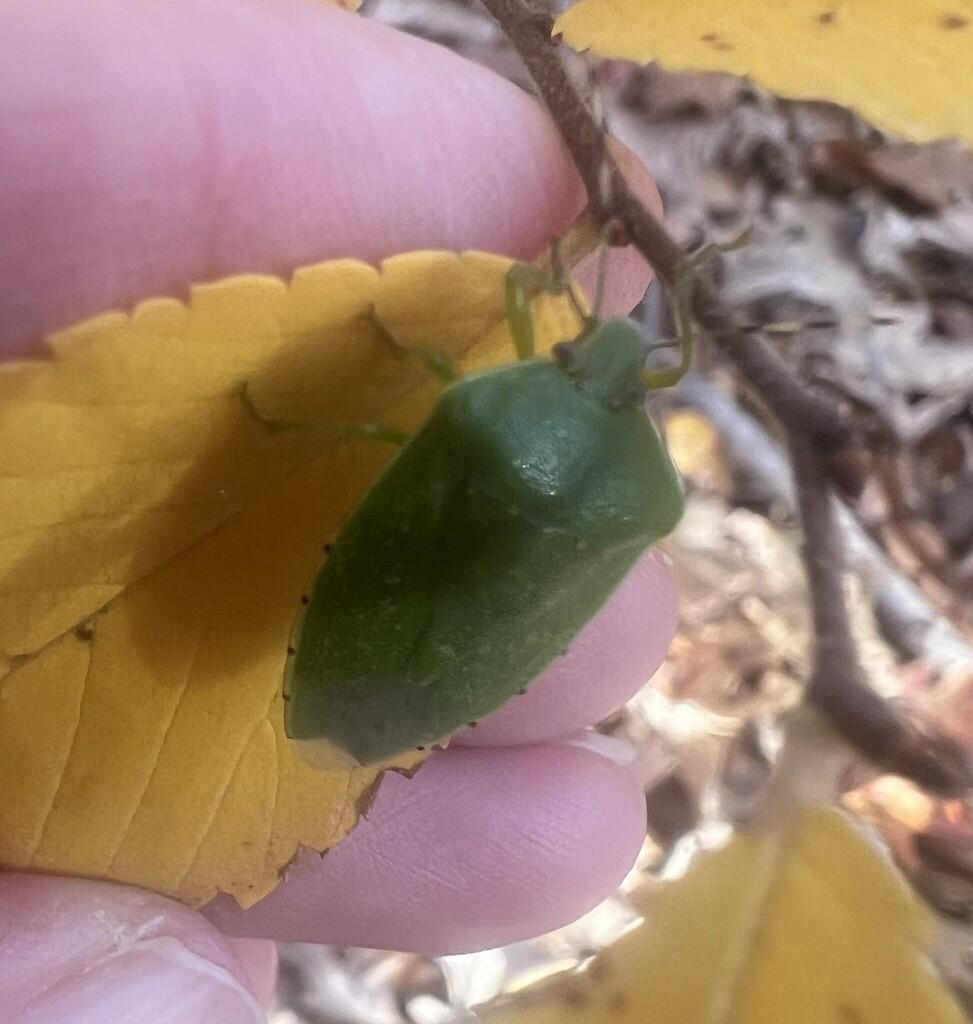stink_bugs: (169, 134, 918, 899)
